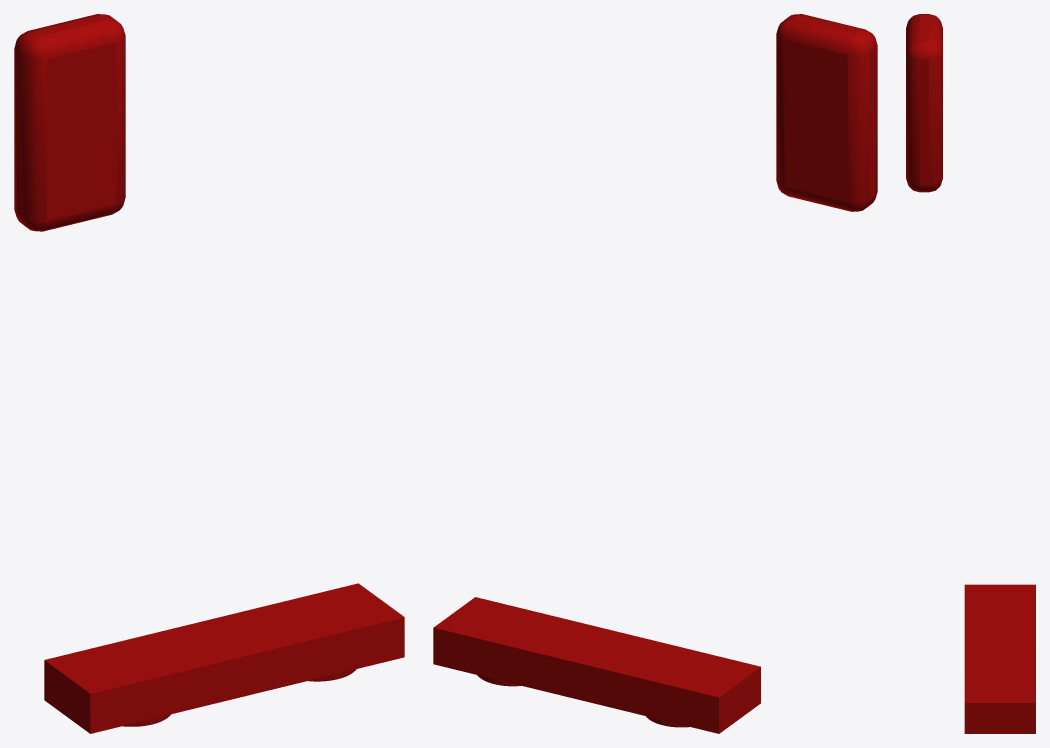
Rendered from base_link_control_red.obj.
3 renders of one model, left to right at view 1: azimuth 30°, elevation 25°; view 2: azimuth 150°, elevation 25°; view 3: azimuth 270°, elevation 25°, orthographic. The views are drawn at different scales.
Visible parts, largest first — view 1: base_link__side_charging_contact_bar, base_link__stop_button, base_link__charging_contact_lobe_0.097, base_link__charging_contact_lobe_0.025; view 2: base_link__side_charging_contact_bar, base_link__stop_button, base_link__charging_contact_lobe_0.025, base_link__charging_contact_lobe_0.097; view 3: base_link__side_charging_contact_bar, base_link__stop_button, base_link__charging_contact_lobe_0.025, base_link__charging_contact_lobe_0.097.
Boxes of the visible parts, x1,y1,x2,y2 form: base_link__side_charging_contact_bar: (44, 583, 404, 733); base_link__stop_button: (14, 14, 125, 231); base_link__charging_contact_lobe_0.097: (276, 598, 357, 681); base_link__charging_contact_lobe_0.025: (91, 644, 171, 726); base_link__side_charging_contact_bar: (433, 597, 760, 733); base_link__stop_button: (776, 14, 877, 211); base_link__charging_contact_lobe_0.025: (644, 652, 718, 727); base_link__charging_contact_lobe_0.097: (476, 611, 549, 686); base_link__side_charging_contact_bar: (964, 584, 1035, 733); base_link__stop_button: (906, 14, 942, 192); base_link__charging_contact_lobe_0.025: (969, 595, 1031, 621); base_link__charging_contact_lobe_0.097: (969, 665, 1031, 691).
Bounding box in the file's own units: 0.1595 × 0.277 × 0.0565.
